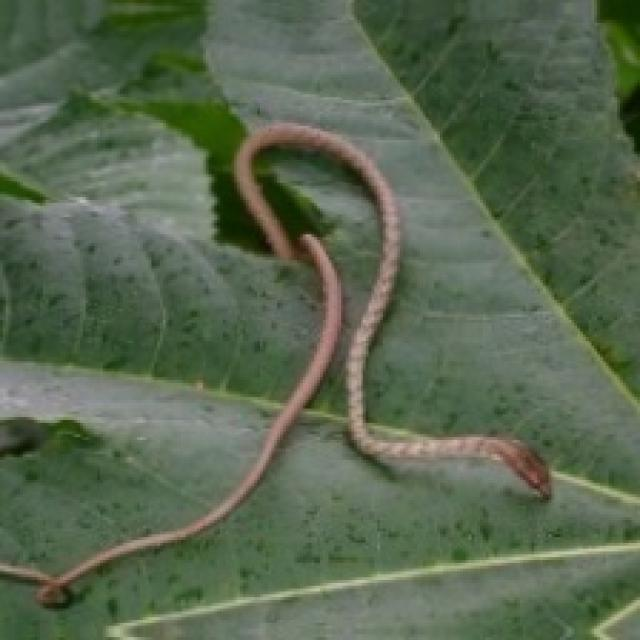philippine whip snake: (0, 123, 549, 606)
